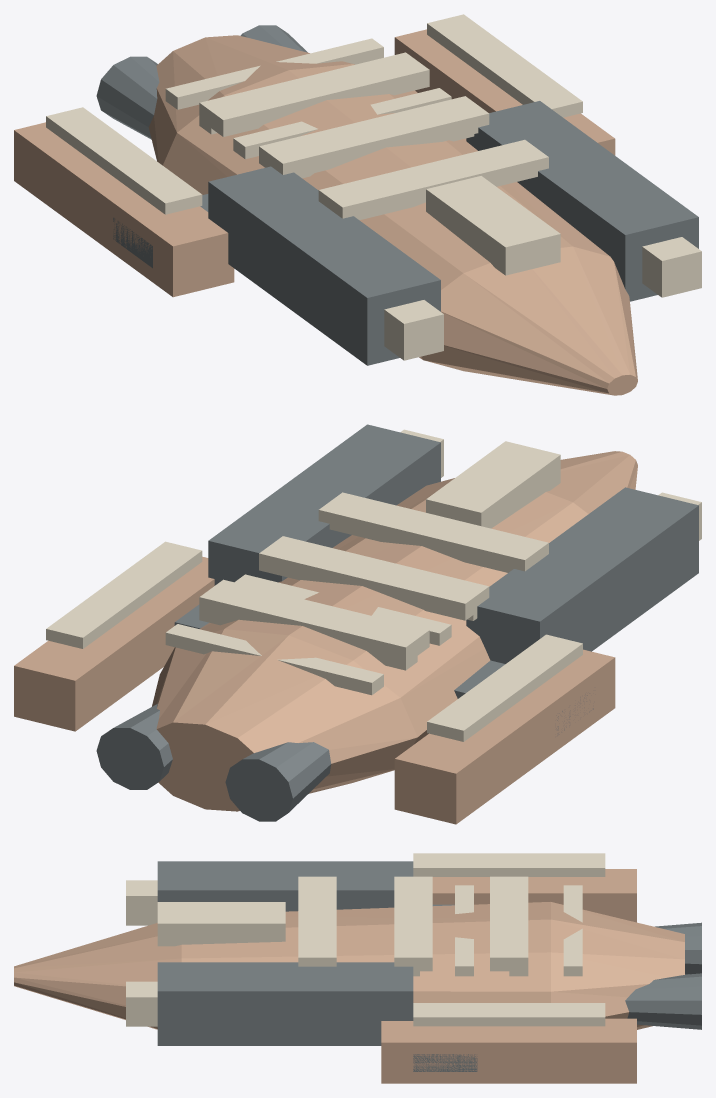
The picture shows the model from 3 angles, top to bottom: view 1: azimuth 30°, elevation 25°; view 2: azimuth 150°, elevation 25°; view 3: azimuth 270°, elevation 25°; orthographic projection. The views are drawn at different scales.
Bounding box in the file's own units: 2.62 × 0.848 × 4.39.
